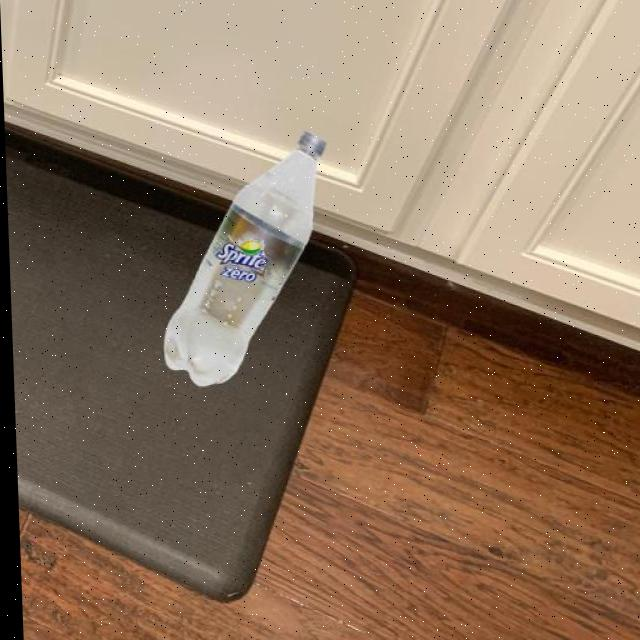bottle: (152, 128, 333, 388)
